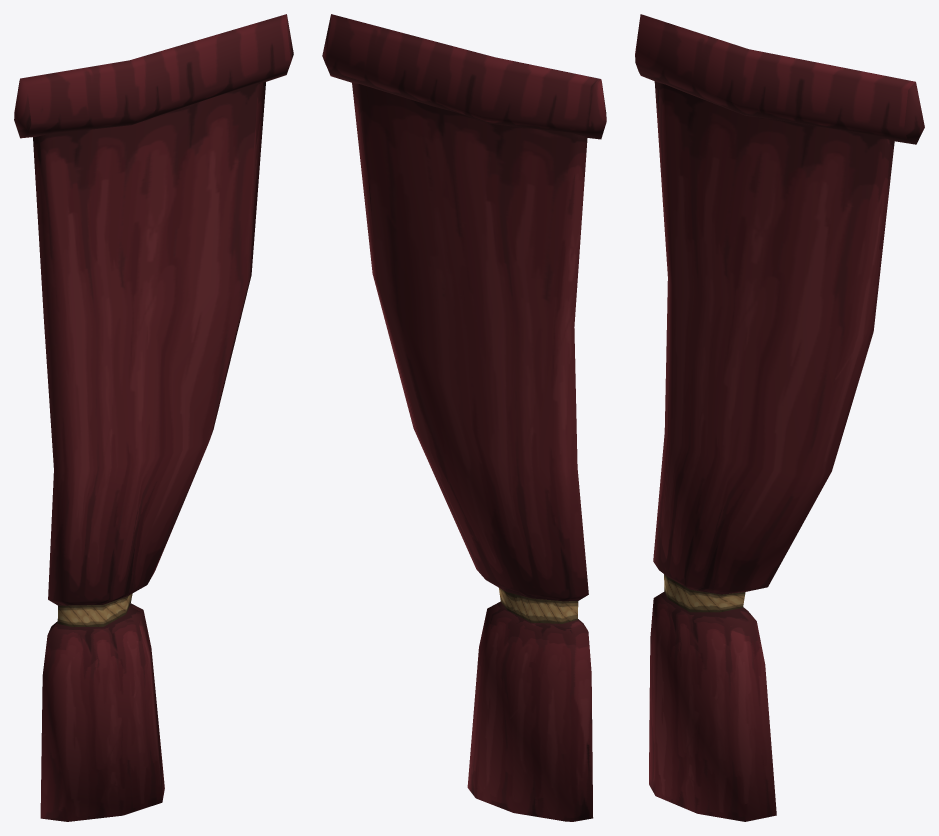
File: SM_PROP_curtain_interior_02_01.fbx
The picture shows the model from 3 angles, left to right: view 1: azimuth 30°, elevation 25°; view 2: azimuth 150°, elevation 25°; view 3: azimuth 330°, elevation 25°; orthographic projection. The views are drawn at different scales.
Parts seen in each view (by area): view 1: SM_PROP_curtain_interior_02_01; view 2: SM_PROP_curtain_interior_02_01; view 3: SM_PROP_curtain_interior_02_01.
Boxes of the visible parts, bbox=[...] form: SM_PROP_curtain_interior_02_01: bbox=[14, 14, 293, 821]; SM_PROP_curtain_interior_02_01: bbox=[322, 14, 606, 821]; SM_PROP_curtain_interior_02_01: bbox=[635, 14, 924, 821].
Bounding box in the file's own units: 85.56 × 217 × 18.13.
